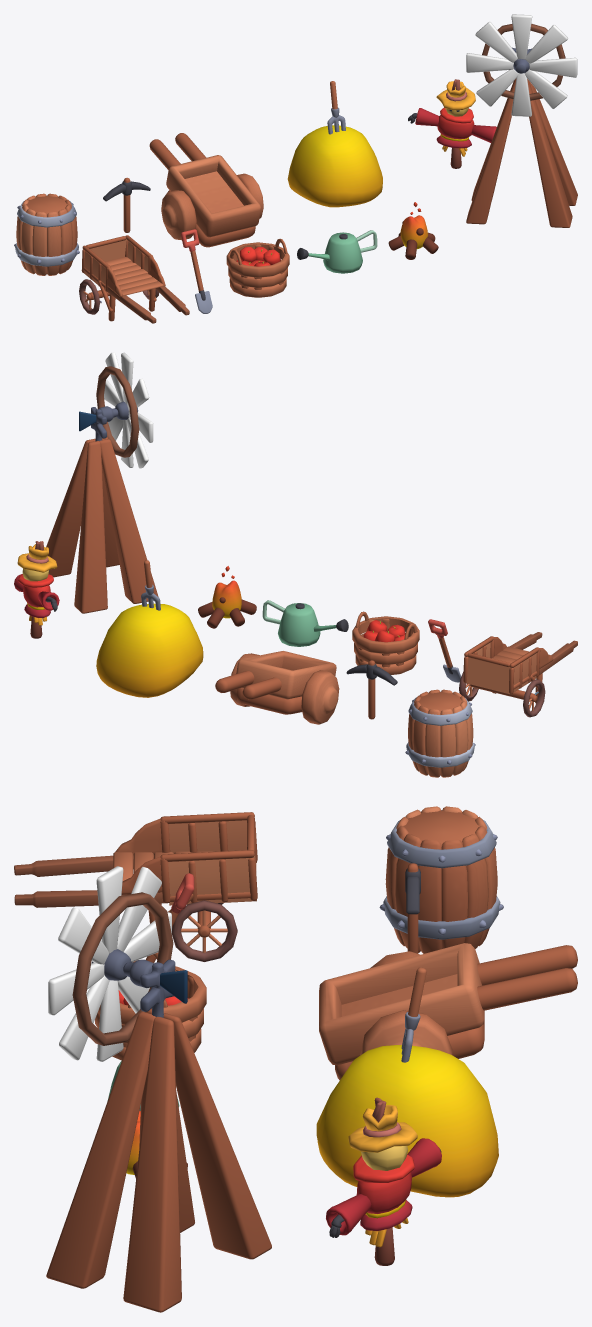
The model's file is Prop.fbx.
3 renders of one model, top to bottom at view 1: azimuth 30°, elevation 25°; view 2: azimuth 150°, elevation 25°; view 3: azimuth 270°, elevation 25°, orthographic. The views are drawn at different scales.
Visible parts, largest first — view 1: Cube.077, Cube.091, Cube.052, Cylinder.010, Sphere, Cylinder.090, Cylinder.041, Cylinder.012, Cube.055, Icosphere, Cylinder.011, Cylinder.013 (+6 smaller); view 2: Cube.077, Cube.091, Cylinder.010, Sphere, Cube.052, Cylinder.090, Cylinder.041, Cylinder.012, Plane.004, Cube.055, Icosphere, Cylinder.011 (+2 smaller); view 3: Cube.077, Cube.091, Cylinder.010, Cube.052, Sphere, Cylinder.079, Plane.003, Cylinder.080, Cylinder.078, Plane.001, Cylinder.027, Cube.007 (+6 smaller).
Boxes of the visible parts, x1,y1,x2,y2 form: Cube.077: [466, 14, 577, 227]; Cube.091: [287, 125, 382, 207]; Cube.052: [166, 155, 260, 237]; Cylinder.010: [14, 193, 79, 275]; Sphere: [408, 79, 496, 168]; Cylinder.090: [161, 190, 196, 240]; Cylinder.041: [323, 232, 362, 273]; Cylinder.012: [226, 242, 289, 277]; Cube.055: [167, 190, 255, 247]; Icosphere: [400, 215, 427, 249]; Cylinder.011: [228, 259, 287, 287]; Cylinder.013: [229, 278, 286, 297]; Cube.077: [46, 352, 158, 613]; Cube.091: [96, 603, 203, 697]; Cylinder.010: [405, 689, 475, 777]; Sphere: [14, 541, 59, 638]; Cube.052: [236, 651, 336, 699]; Cylinder.090: [301, 670, 339, 724]; Cylinder.041: [278, 603, 320, 646]; Cylinder.012: [352, 616, 419, 653]; Plane.004: [465, 657, 510, 694]; Cube.055: [236, 688, 302, 714]; Icosphere: [212, 580, 241, 618]; Cylinder.011: [354, 632, 417, 664]; Cube.077: [46, 866, 271, 1312]; Cube.091: [316, 1045, 498, 1197]; Cylinder.010: [379, 806, 503, 953]; Cube.052: [319, 943, 484, 1065]; Sphere: [326, 1097, 441, 1265]; Cylinder.079: [477, 968, 577, 1010]; Plane.003: [168, 856, 256, 905]; Cylinder.080: [477, 945, 577, 985]; Cylinder.078: [360, 1010, 452, 1055]; Plane.001: [168, 820, 256, 862]; Cylinder.027: [172, 900, 237, 961]; Cube.007: [14, 854, 153, 876].
Size of the model in its own units: 5394 by 2405 by 2988.
Materials: 1 (1 with a texture image).
